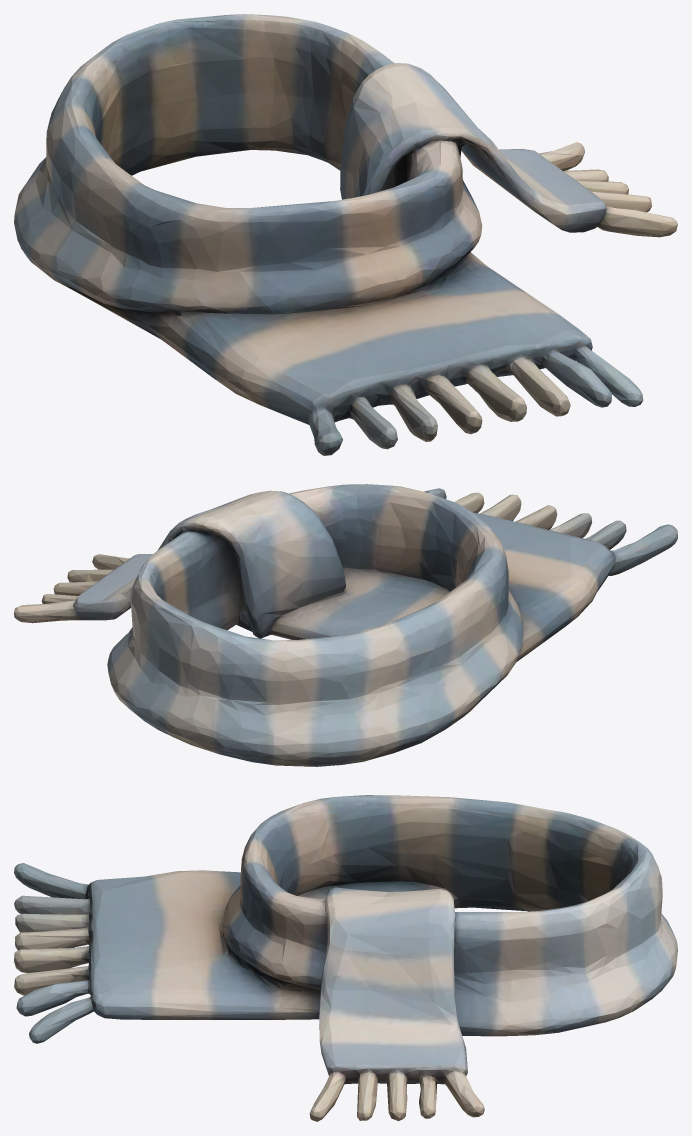
Rendered from striped_scarf.glb.
3 renders of one model, top to bottom at view 1: azimuth 30°, elevation 25°; view 2: azimuth 150°, elevation 25°; view 3: azimuth 270°, elevation 25°, orthographic. The views are drawn at different scales.
Visible parts, largest first — view 1: geometry_0; view 2: geometry_0; view 3: geometry_0.
Part boxes in pixels (left/top/right/bottom): geometry_0: left=14, top=14, right=677, bottom=455; geometry_0: left=14, top=484, right=677, bottom=766; geometry_0: left=14, top=795, right=677, bottom=1121.
Bounding box in the file's own units: 0.4101 × 0.1209 × 0.5.
1 material, 1 textured.
